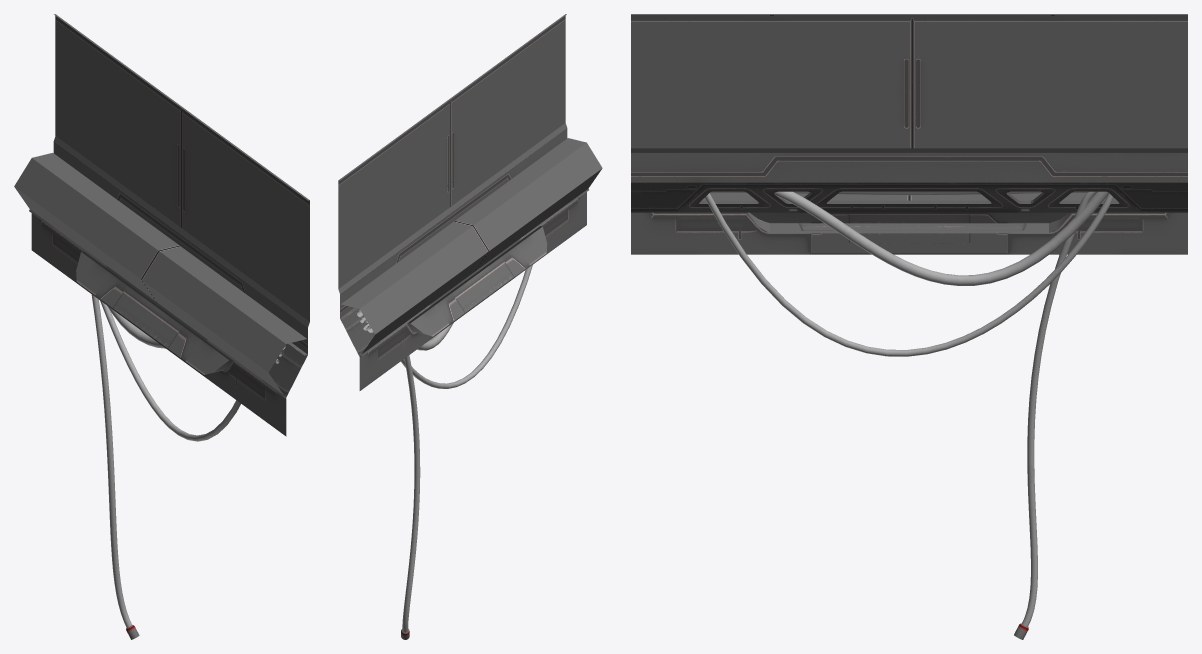
The model's file is S_TopCablesStraightHanging.gltf.
The picture shows the model from 3 angles, left to right: view 1: azimuth 30°, elevation 25°; view 2: azimuth 150°, elevation 25°; view 3: azimuth 270°, elevation 25°; orthographic projection. The views are drawn at different scales.
Visible parts, largest first — view 1: Plane_076; view 2: Plane_076; view 3: Plane_076.
Part boxes in pixels (<box>): Plane_076: <box>14,14,309,639</box>; Plane_076: <box>338,14,602,639</box>; Plane_076: <box>631,14,1187,639</box>.
Bounding box in the file's own units: 0.4421 × 4.94 × 4.
4 materials, 4 textured.
